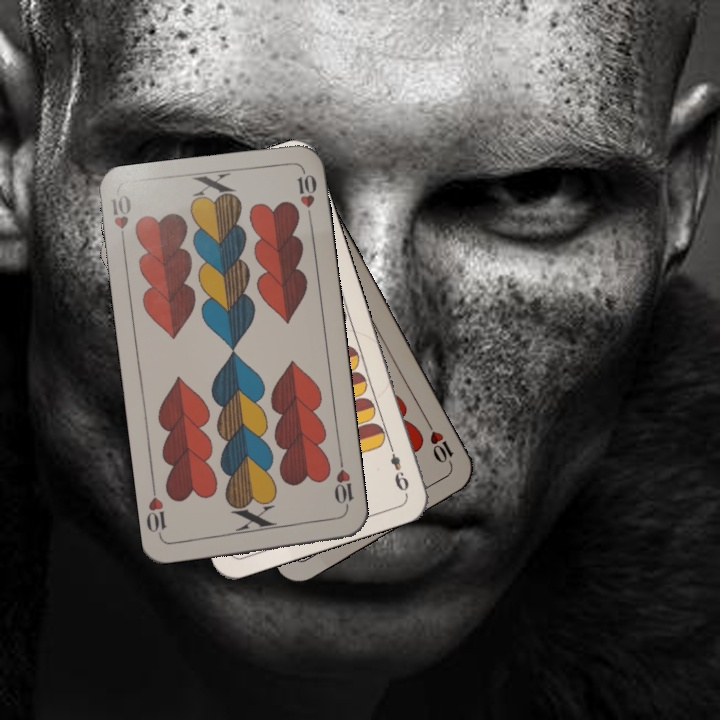E9: (384, 438, 412, 496)
H10: (421, 415, 456, 470), (107, 190, 134, 250), (330, 456, 357, 515)
